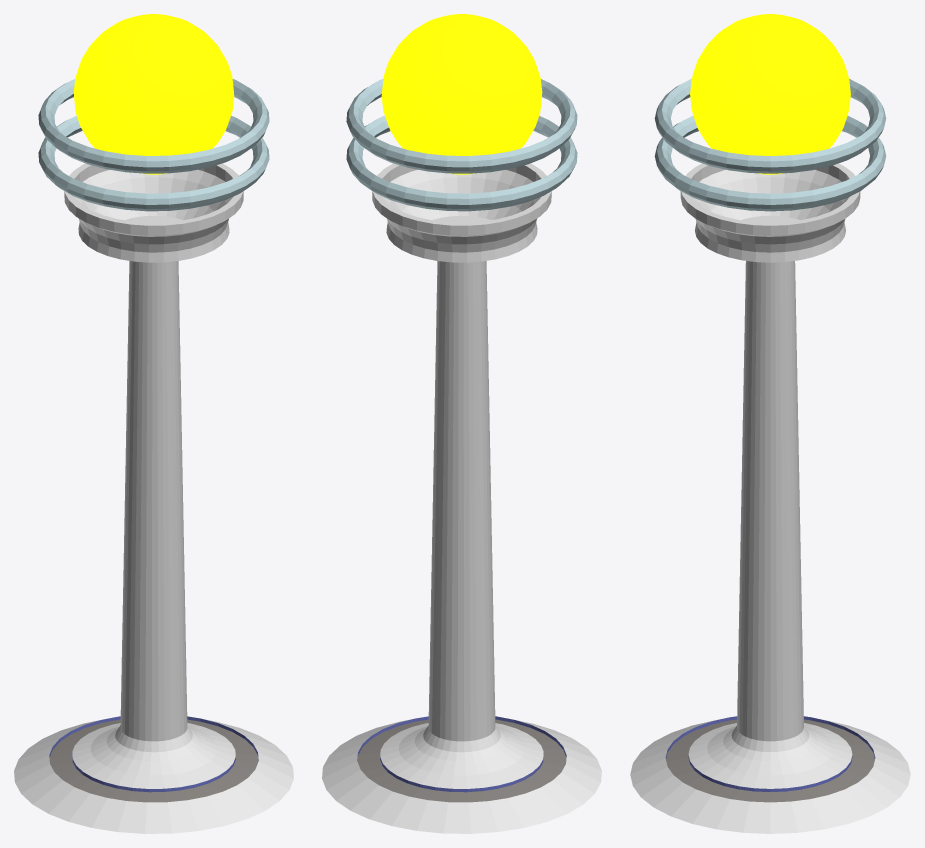
The model's file is checkpoint.fbx.
The picture shows the model from 3 angles, left to right: view 1: azimuth 30°, elevation 25°; view 2: azimuth 150°, elevation 25°; view 3: azimuth 270°, elevation 25°; orthographic projection.
Parts seen in each view (by area): view 1: Circle, Sphere; view 2: Circle, Sphere; view 3: Circle, Sphere.
Part boxes in pixels (box(x1,y1,x2,y2)): Circle: box(14, 79, 293, 833); Sphere: box(73, 14, 234, 174); Circle: box(322, 79, 601, 833); Sphere: box(381, 14, 542, 174); Circle: box(630, 78, 910, 833); Sphere: box(690, 14, 850, 174).
Bounding box in the file's own units: 104 × 308 × 104.
